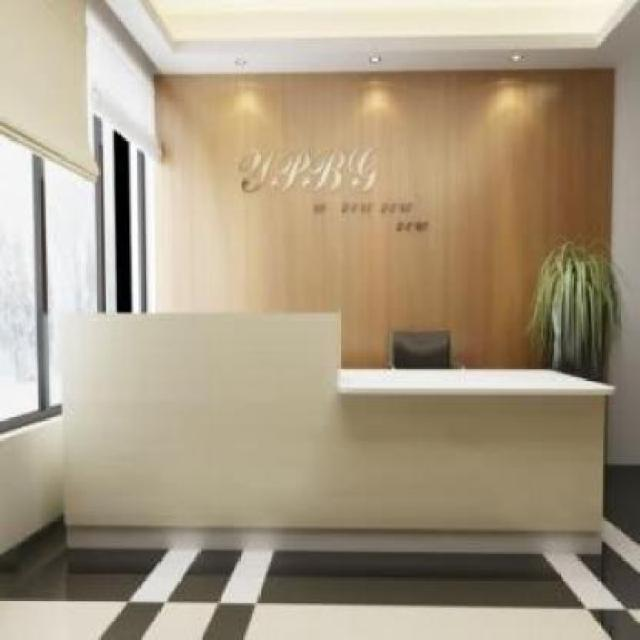frontdesk: (46, 297, 617, 566)
